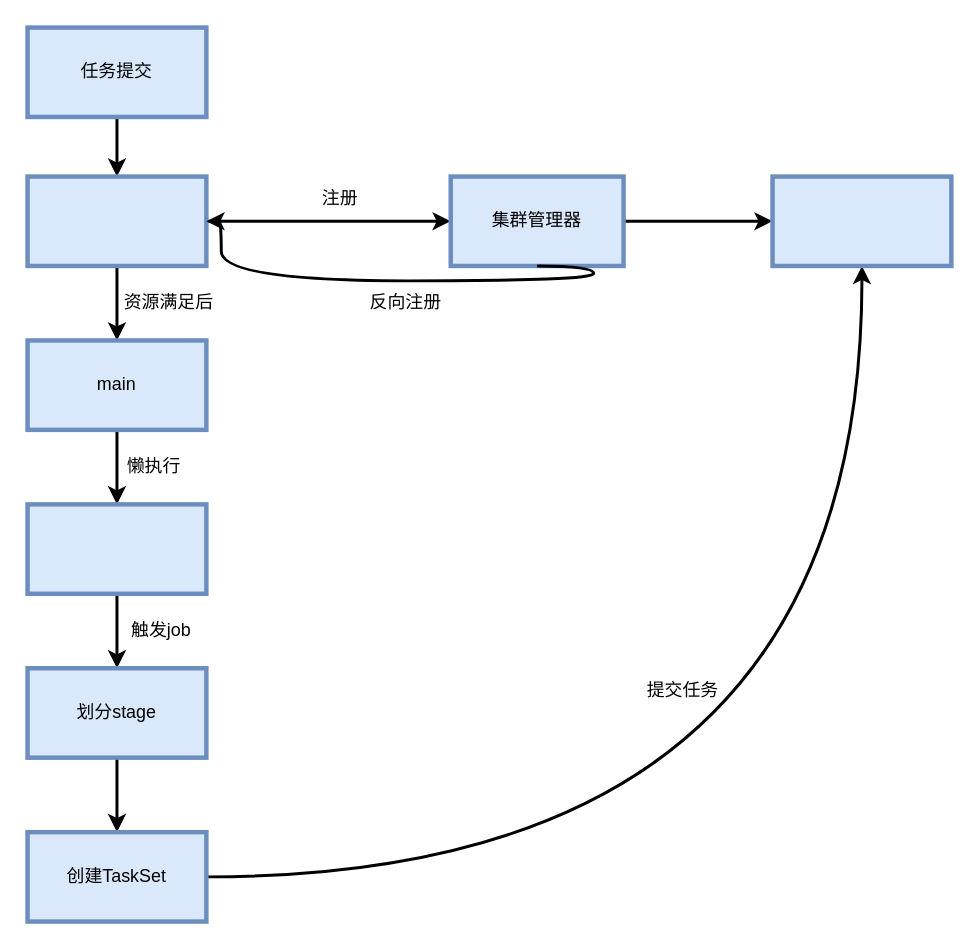
This 979x949 diagram has some shape labels left out. Each missing label, with the centre of its shape:
Driver: the point at 116,220
Executor: the point at 861,220
执行action操作: the point at 116,548
